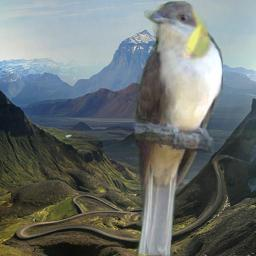Cuckoo: (130, 1, 223, 256)
